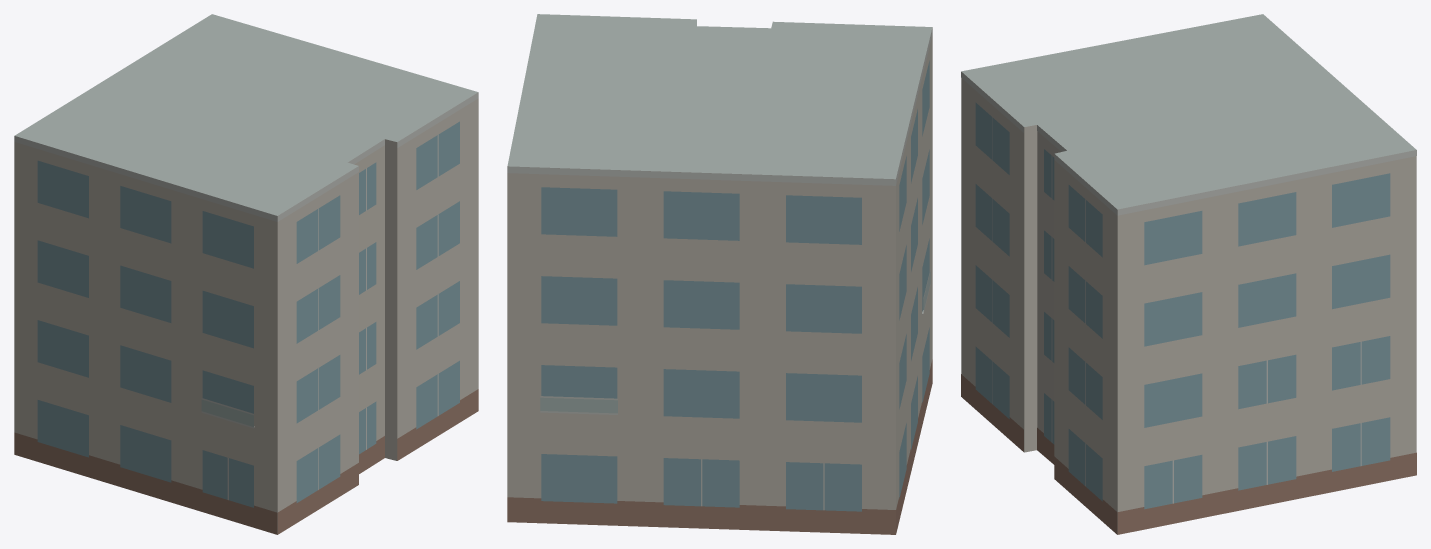
Rendered from survey-upis-32742693.glb.
3 views of the same model, side by side, from view 1: azimuth 30°, elevation 25°; view 2: azimuth 150°, elevation 25°; view 3: azimuth 270°, elevation 25° (orthographic). The views are drawn at different scales.
Visible parts, largest first — view 1: survey-upis-32742693.tmp; view 2: survey-upis-32742693.tmp; view 3: survey-upis-32742693.tmp.
Part boxes in pixels (left/top/right/bottom): survey-upis-32742693.tmp: left=14, top=14, right=478, bottom=534; survey-upis-32742693.tmp: left=507, top=14, right=932, bottom=534; survey-upis-32742693.tmp: left=961, top=14, right=1416, bottom=534.
Bounding box in the file's own units: 16.64 × 12.9 × 16.39.
